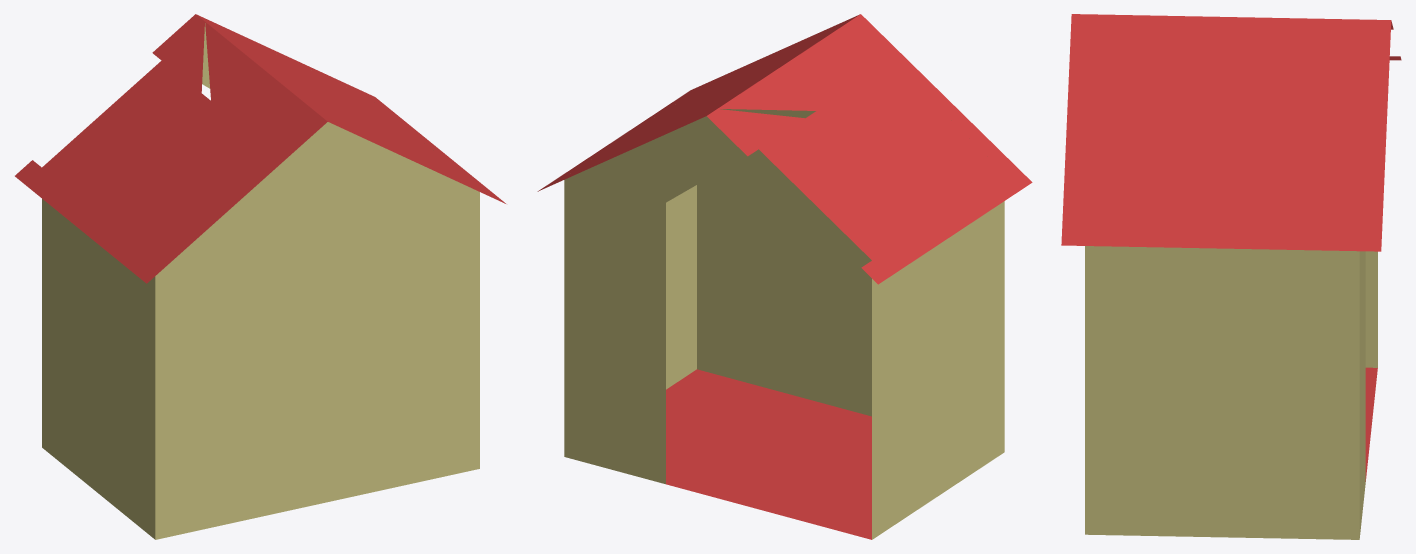
The picture shows the model from 3 angles, left to right: view 1: azimuth 30°, elevation 25°; view 2: azimuth 150°, elevation 25°; view 3: azimuth 270°, elevation 25°; orthographic projection. The views are drawn at different scales.
Size of the model in its own units: 10.3 by 7.5 by 10.58.
